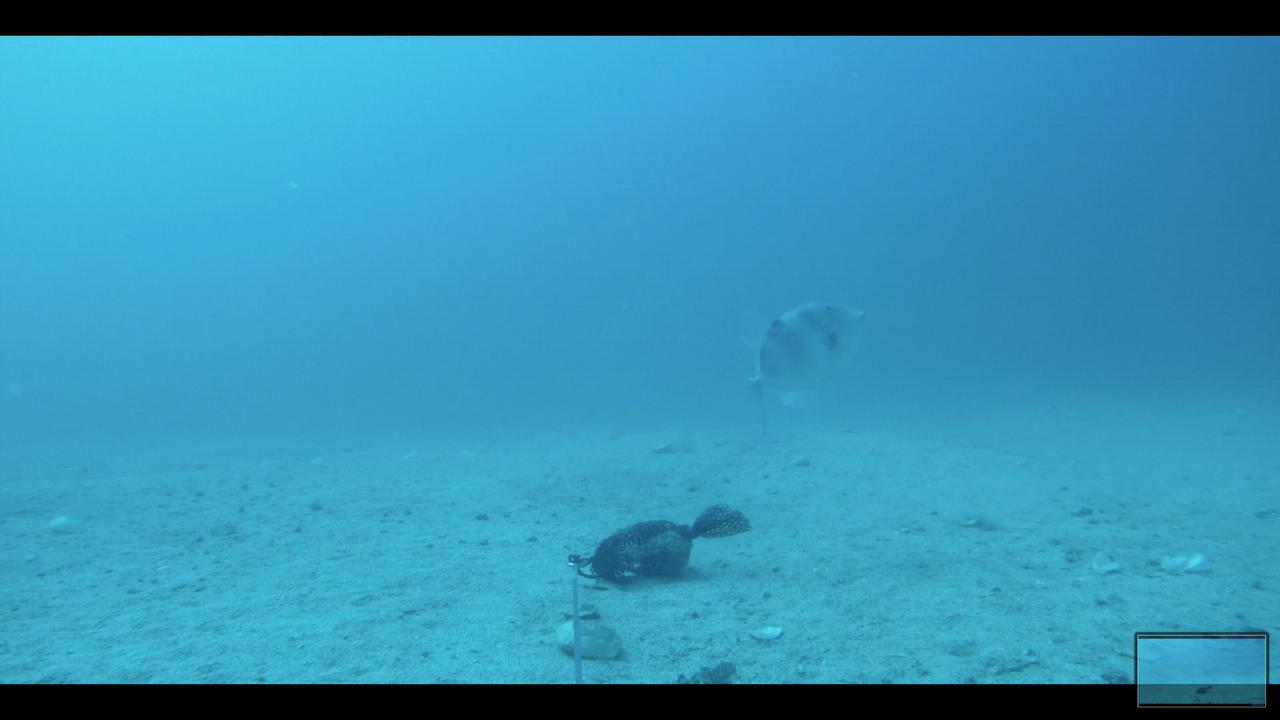balistes: (732, 292, 868, 447)
